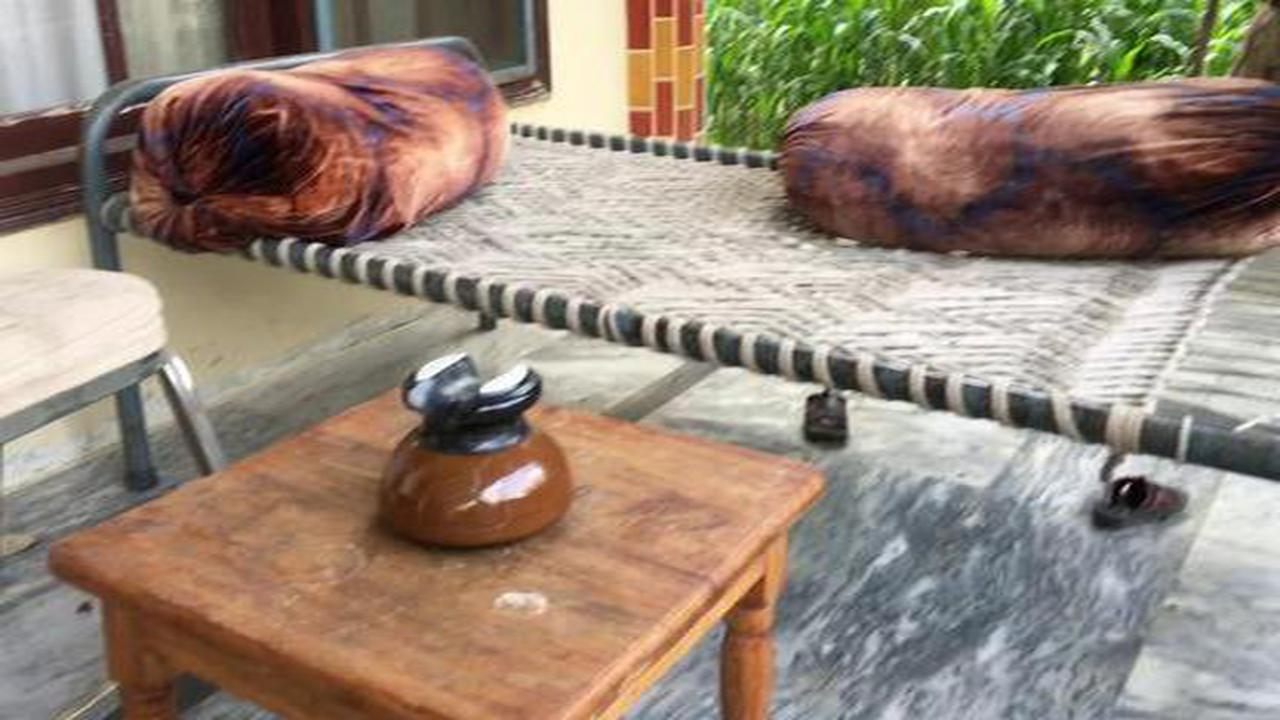insulator_pin: (361, 340, 582, 556)
